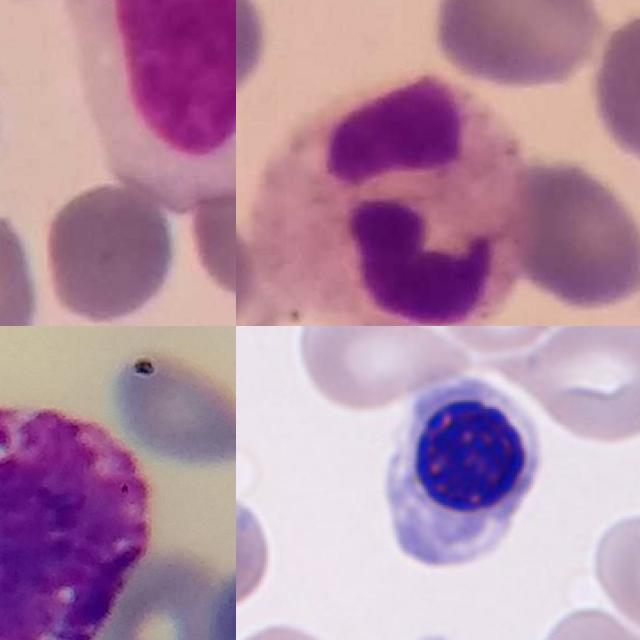Basophil: (0, 401, 152, 640)
Lymphocyte: (371, 370, 553, 578)
Monocyte: (71, 0, 236, 210)
Neutrophil: (245, 76, 533, 326)
RBC: (289, 326, 467, 416), (522, 326, 640, 446), (588, 510, 640, 634), (236, 480, 277, 617), (435, 326, 568, 355)
